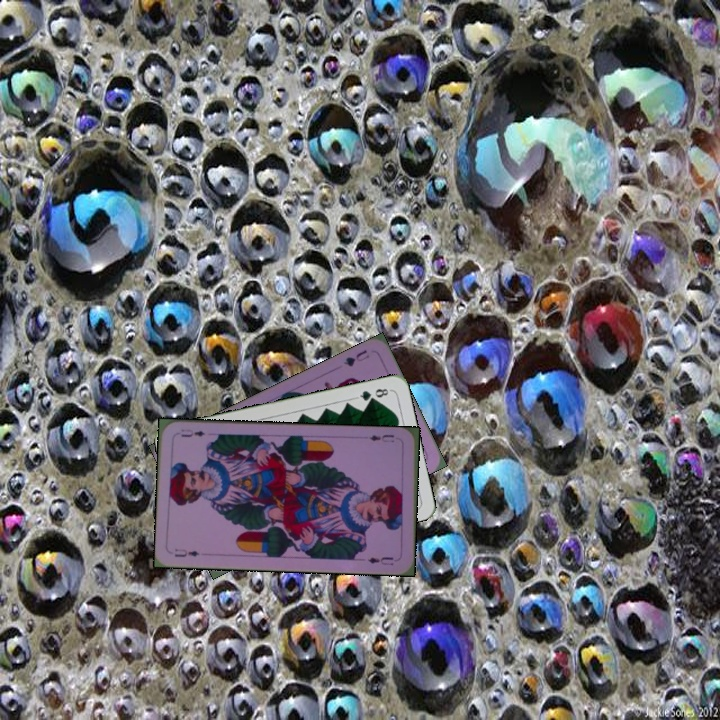EU: (365, 430, 397, 445), (171, 545, 201, 560)
G8: (353, 384, 393, 404)
GU: (340, 346, 372, 369)
